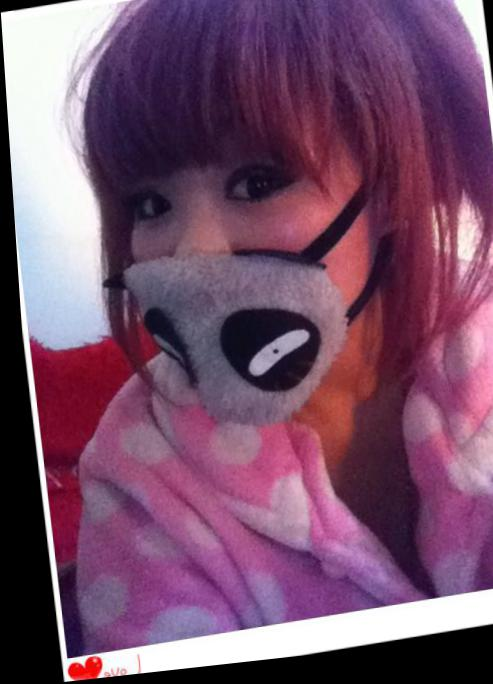WRONG: (96, 117, 396, 444)
